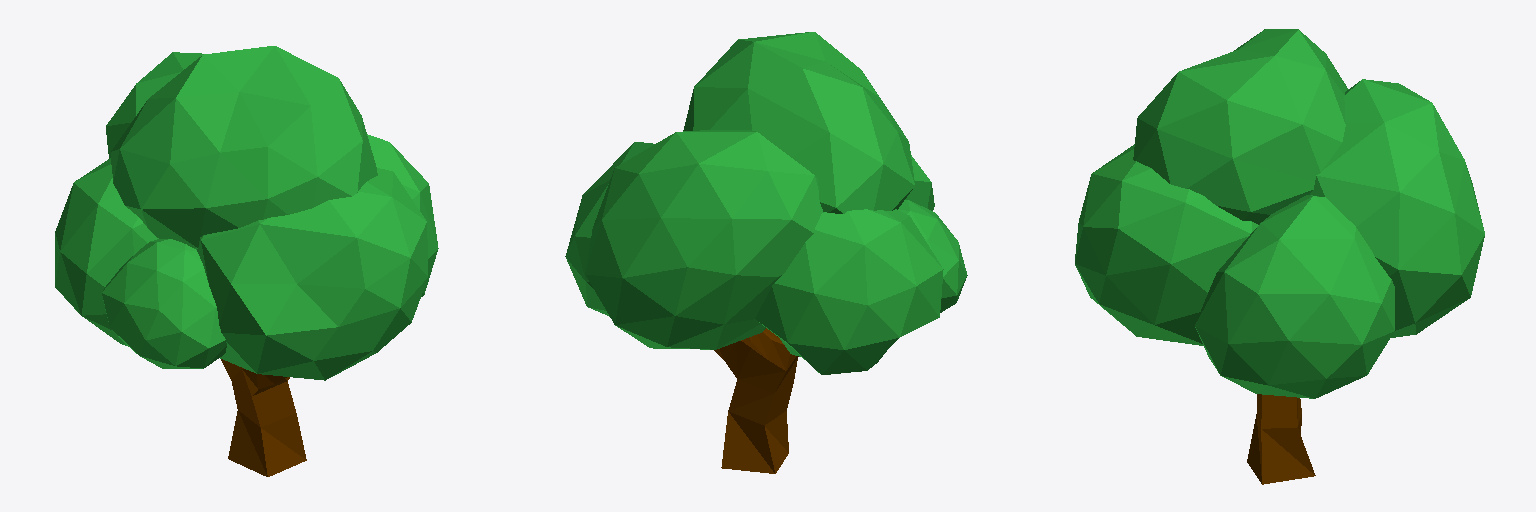
3 views of the same model, side by side, from view 1: azimuth 30°, elevation 25°; view 2: azimuth 150°, elevation 25°; view 3: azimuth 270°, elevation 25° (orthographic).
Parts seen in each view (by area): view 1: polySurface2; view 2: polySurface2; view 3: polySurface2.
Boxes of the visible parts, box(x1,y1,x2,y2) form: polySurface2: box(55, 46, 438, 476); polySurface2: box(565, 32, 967, 473); polySurface2: box(1075, 29, 1484, 484).
Size of the model in its own units: 4.42 by 5.08 by 4.54.
Materials: 1 (1 with a texture image).